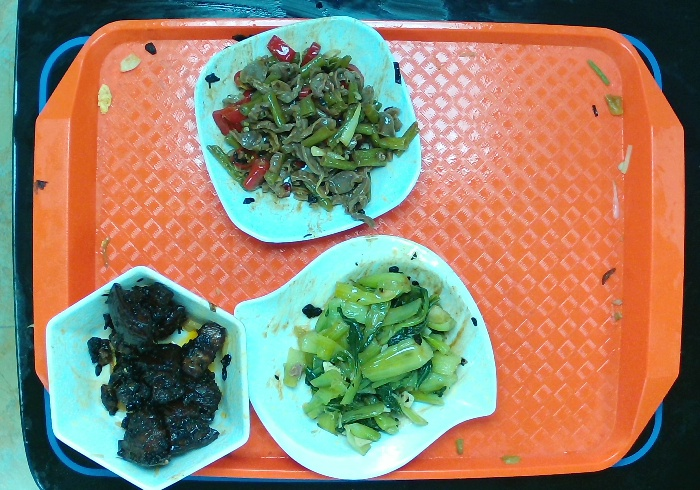RJxy-Liu_Jiao_Wan: (41, 267, 254, 490)
RJxy-Shuang_Jiao_Pan: (229, 234, 506, 480)
RJxy-Si_Fang_Wan: (194, 15, 423, 245)
